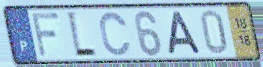0: (198, 8, 230, 57)
6: (133, 8, 164, 58)
A: (167, 10, 204, 56)
C: (98, 10, 133, 58)
F: (29, 11, 62, 59)
L: (65, 9, 99, 60)
